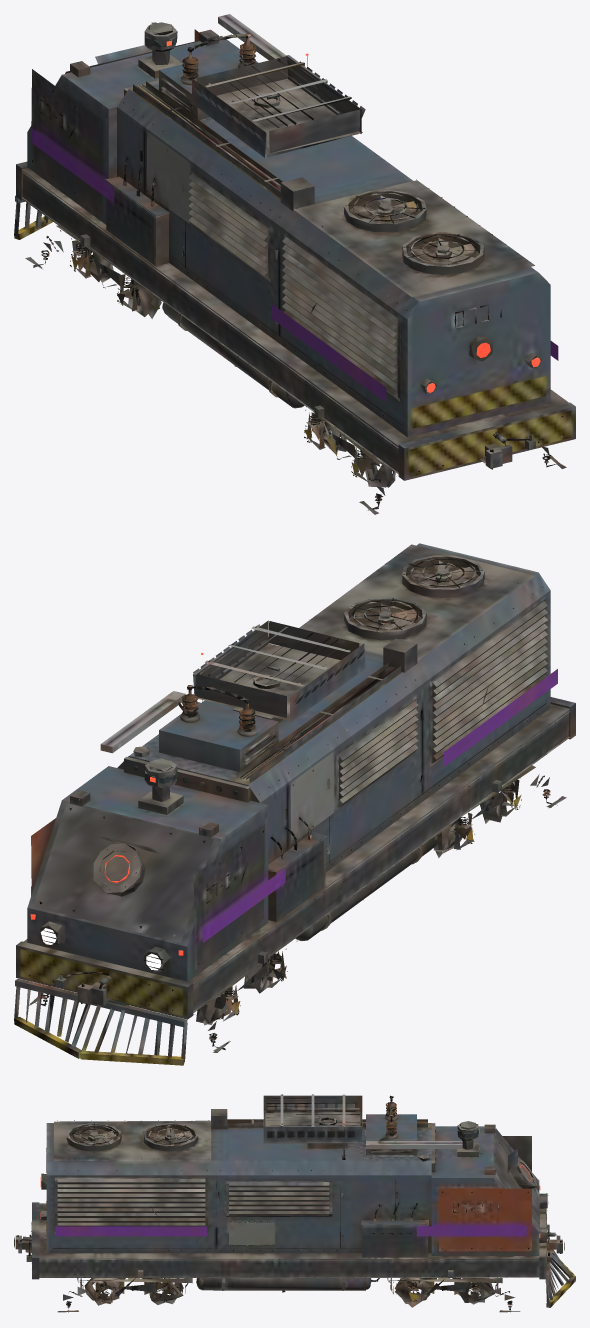
Rendered from locomotiva_eletrica.glb.
3 views of the same model, one above another, from view 1: azimuth 30°, elevation 25°; view 2: azimuth 150°, elevation 25°; view 3: azimuth 270°, elevation 25° (orthographic). The views are drawn at different scales.
Visible parts, largest first — view 1: locomotiva_eletrica_corpo, locomotiva_eletrica_truque0, locomotiva_eletrica_truque1; view 2: locomotiva_eletrica_corpo, locomotiva_eletrica_truque0, locomotiva_eletrica_truque1; view 3: locomotiva_eletrica_corpo, locomotiva_eletrica_truque1, locomotiva_eletrica_truque0.
Part boxes in pixels (box(x1,y1,x2,y2)): locomotiva_eletrica_corpo: box(14, 14, 575, 480); locomotiva_eletrica_truque0: box(294, 402, 566, 514); locomotiva_eletrica_truque1: box(25, 225, 161, 318); locomotiva_eletrica_corpo: box(14, 543, 575, 1065); locomotiva_eletrica_truque0: box(433, 765, 566, 858); locomotiva_eletrica_truque1: box(29, 940, 297, 1052); locomotiva_eletrica_corpo: box(14, 1094, 575, 1307); locomotiva_eletrica_truque1: box(387, 1277, 520, 1312); locomotiva_eletrica_truque0: box(57, 1278, 192, 1312).
Bounding box in the file's own units: 0.806 × 1.11 × 3.08.
7 materials, 1 textured.
